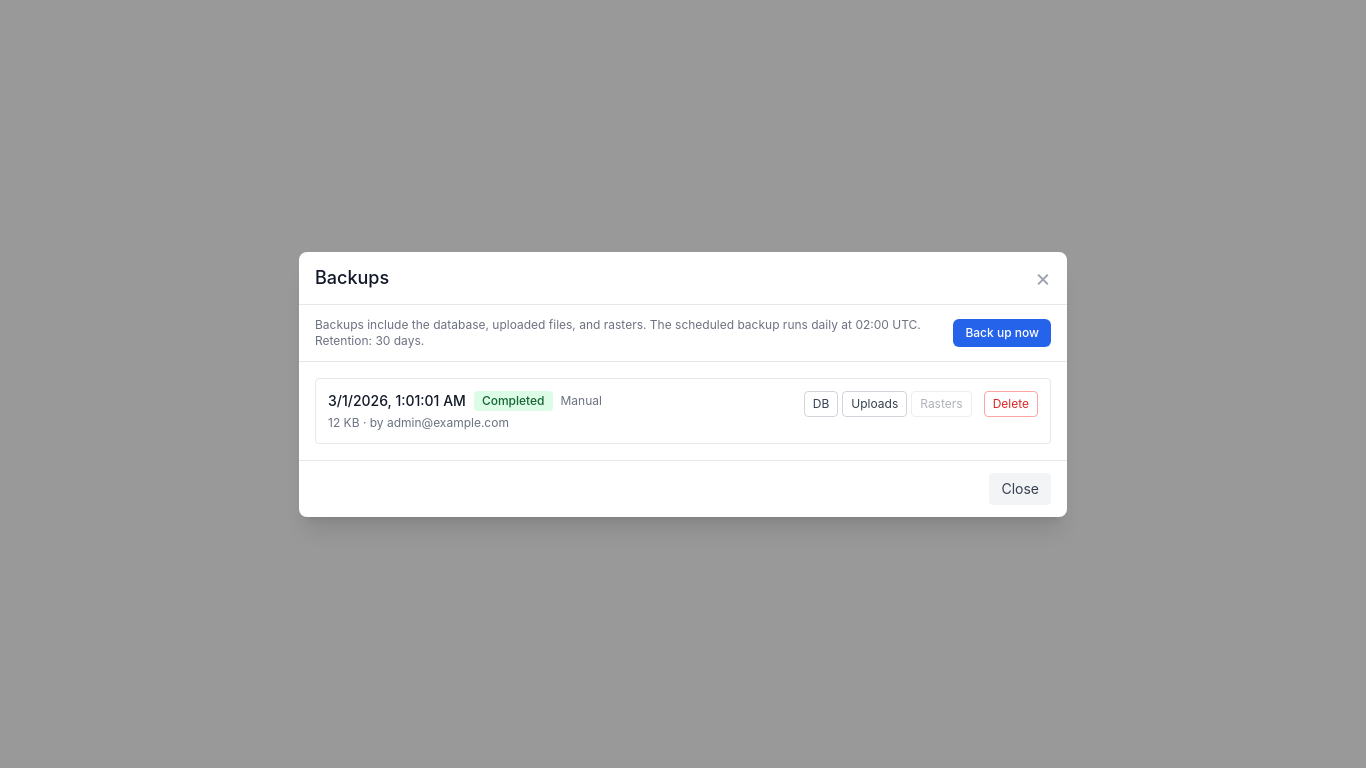
Scenario: BackupsModal › confirms before deleting and refreshes
Expected: the text "Completed" is shown, [474,390,552,410]
Click the button "Delete".
click(1011, 404)  # box [984,390,1038,416]
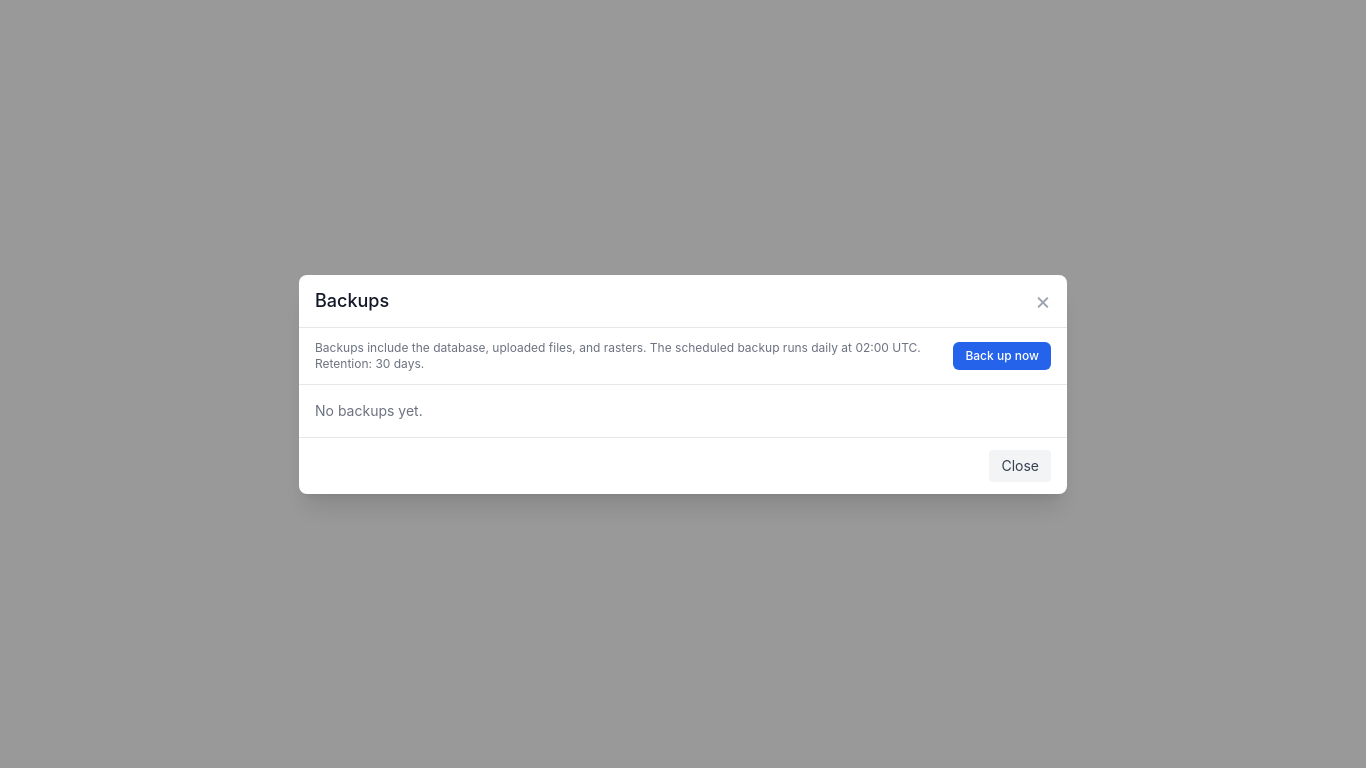
Now the text "No backups yet." is shown, box [315,402,423,418]
